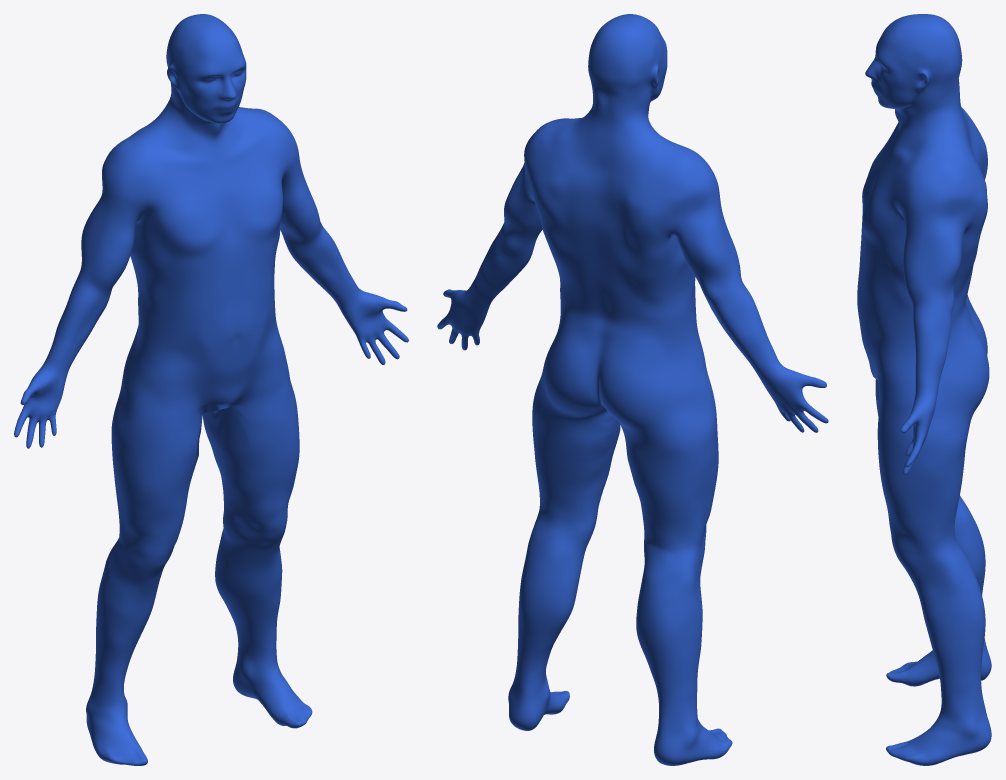
File: Human_Surface.glb
3 renders of one model, left to right at view 1: azimuth 30°, elevation 25°; view 2: azimuth 150°, elevation 25°; view 3: azimuth 270°, elevation 25°, orthographic. The views are drawn at different scales.
Parts seen in each view (by area): view 1: VH_M_skin; view 2: VH_M_skin; view 3: VH_M_skin.
Boxes of the visible parts, x1,y1,x2,y2 form: VH_M_skin: (14, 14, 408, 765); VH_M_skin: (437, 14, 828, 765); VH_M_skin: (857, 14, 991, 765).
Size of the model in its own units: 1.05 by 1.83 by 0.3162.
